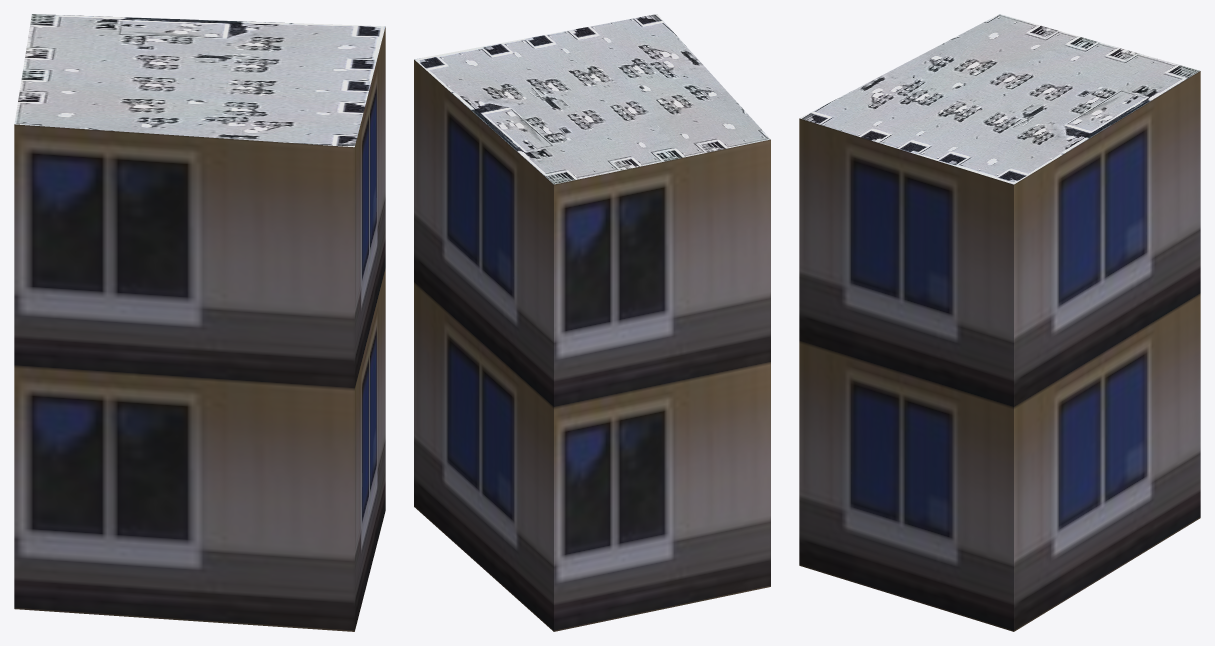
File: ResTex__3712.fbx
3 renders of one model, left to right at view 1: azimuth 30°, elevation 25°; view 2: azimuth 150°, elevation 25°; view 3: azimuth 270°, elevation 25°, orthographic. The views are drawn at different scales.
Visible parts, largest first — view 1: CityEngineMaterial_5_m, CityEngineMaterial_8_m; view 2: CityEngineMaterial_5_m, CityEngineMaterial_8_m; view 3: CityEngineMaterial_5_m, CityEngineMaterial_8_m.
Part boxes in pixels (left/top/right/bottom): CityEngineMaterial_5_m: left=14, top=27, right=385, bottom=631; CityEngineMaterial_8_m: left=14, top=14, right=385, bottom=147; CityEngineMaterial_5_m: left=414, top=59, right=770, bottom=631; CityEngineMaterial_8_m: left=414, top=14, right=770, bottom=184; CityEngineMaterial_5_m: left=799, top=71, right=1200, bottom=631; CityEngineMaterial_8_m: left=800, top=14, right=1199, bottom=184.
Size of the model in its own units: 4.91 by 6 by 4.88.
2 materials, 2 textured.
